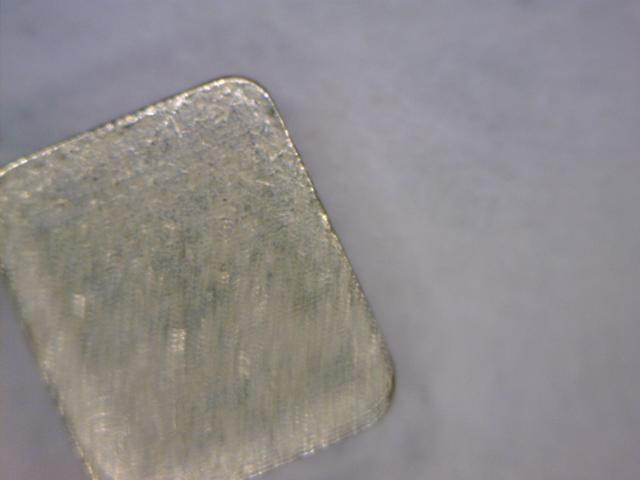ok: (6, 66, 411, 438)
